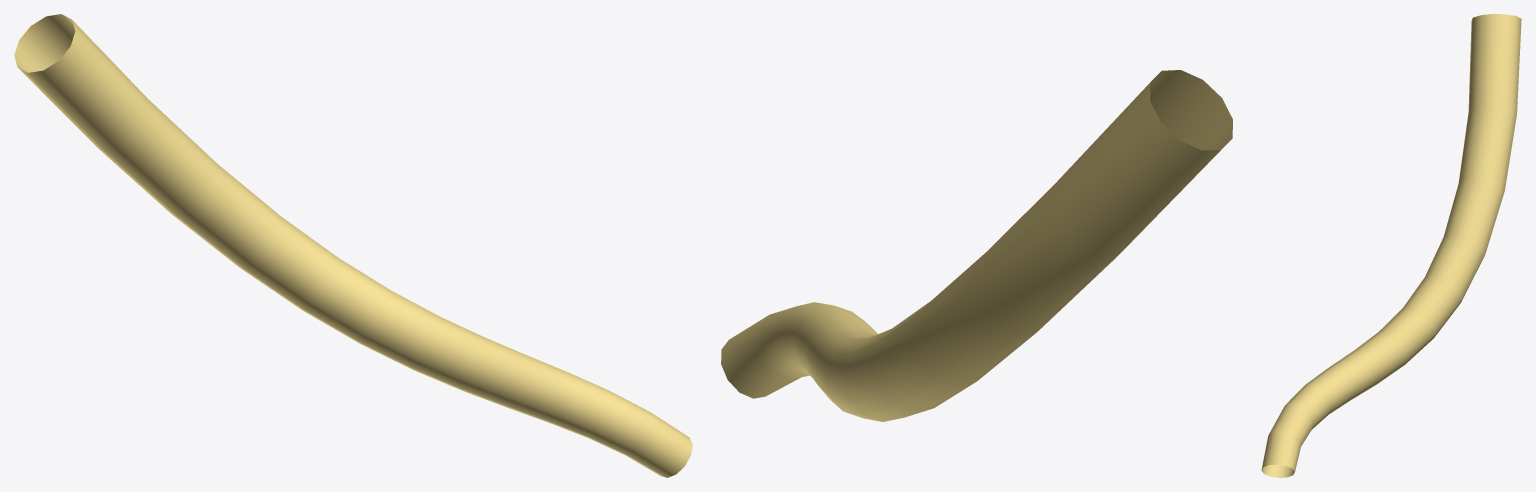
3 renders of one model, left to right at view 1: azimuth 30°, elevation 25°; view 2: azimuth 150°, elevation 25°; view 3: azimuth 270°, elevation 25°, orthographic. The views are drawn at different scales.
Visible parts, largest first — view 1: ZA_a9324987643c041c; view 2: ZA_a9324987643c041c; view 3: ZA_a9324987643c041c.
Boxes of the visible parts, bbox=[...] form: ZA_a9324987643c041c: bbox=[14, 14, 692, 477]; ZA_a9324987643c041c: bbox=[721, 70, 1232, 421]; ZA_a9324987643c041c: bbox=[1261, 14, 1521, 477].
Size of the model in its own units: 0.0244 by 0.0206 by 0.0154.
